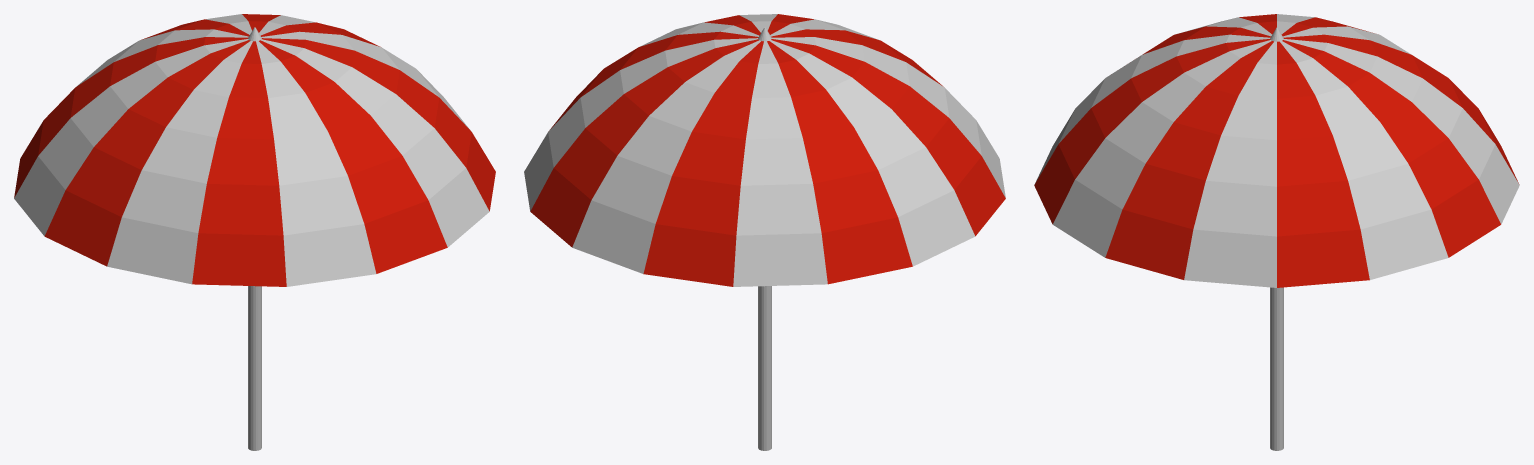
The model's file is suncobran.FBX.
3 renders of one model, left to right at view 1: azimuth 30°, elevation 25°; view 2: azimuth 150°, elevation 25°; view 3: azimuth 270°, elevation 25°, orthographic.
Parts seen in each view (by area): view 1: suncobran; view 2: suncobran; view 3: suncobran.
Boxes of the visible parts, x1,y1,x2,y2 form: suncobran: (14,14,495,450); suncobran: (524,14,1005,450); suncobran: (1034,14,1519,450).
Size of the model in its own units: 3.42 by 3.26 by 3.42.
